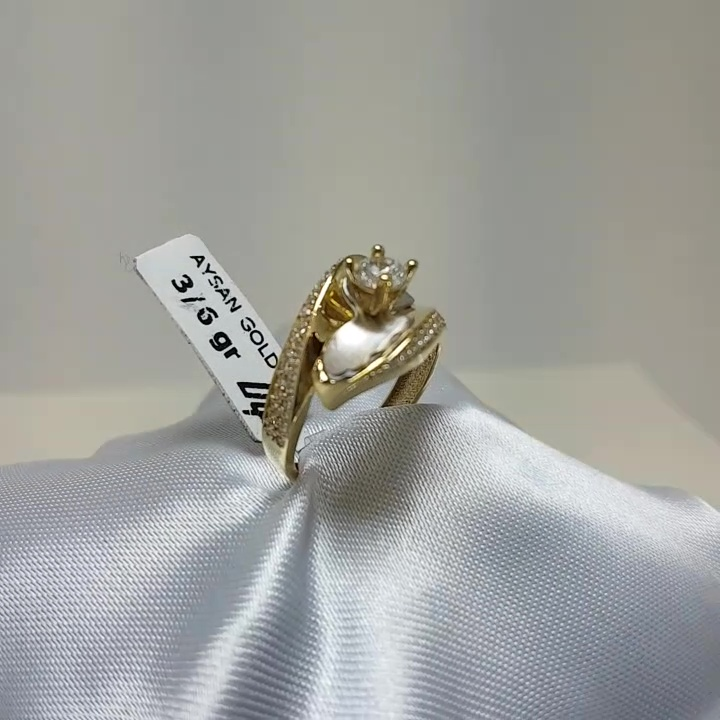Ring 6: (221, 226, 467, 486)
